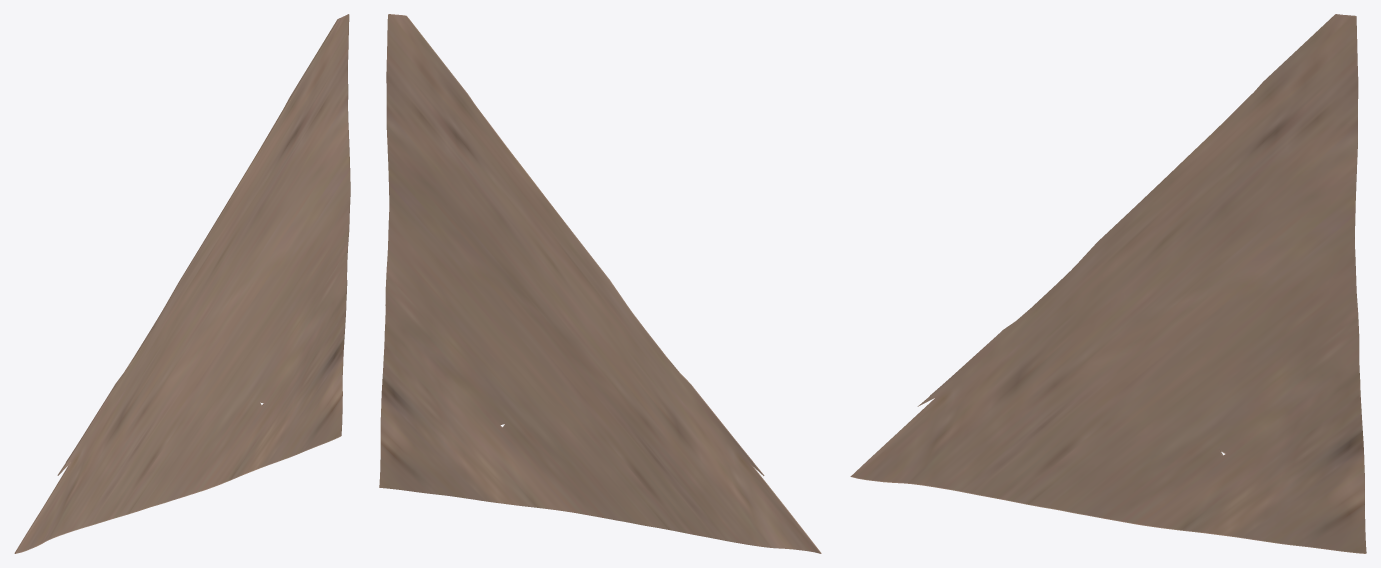
3 views of the same model, side by side, from view 1: azimuth 30°, elevation 25°; view 2: azimuth 150°, elevation 25°; view 3: azimuth 330°, elevation 25° (orthographic). The views are drawn at different scales.
Size of the model in its own units: 10.95 by 12.25 by 2.07.
1 material, 1 textured.
